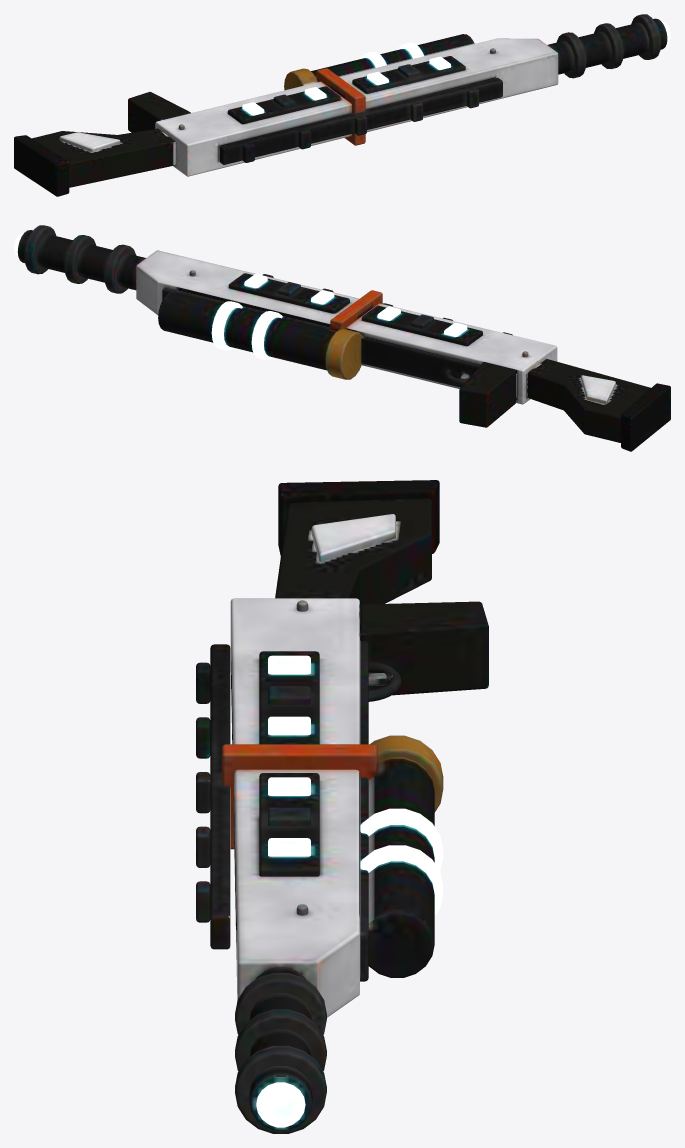
The model's file is laser_rifle.glb.
3 views of the same model, one above another, from view 1: azimuth 30°, elevation 25°; view 2: azimuth 150°, elevation 25°; view 3: azimuth 270°, elevation 25° (orthographic). The views are drawn at different scales.
Visible parts, largest first — view 1: laser_rifle; view 2: laser_rifle; view 3: laser_rifle.
Part boxes in pixels (x1,y1,x2,y2): laser_rifle: (14,14,670,196); laser_rifle: (14,225,670,451); laser_rifle: (196,480,488,1133).
Bounding box in the file's own units: 0.9869 × 0.074 × 0.2037.
2 materials, 2 textured.
